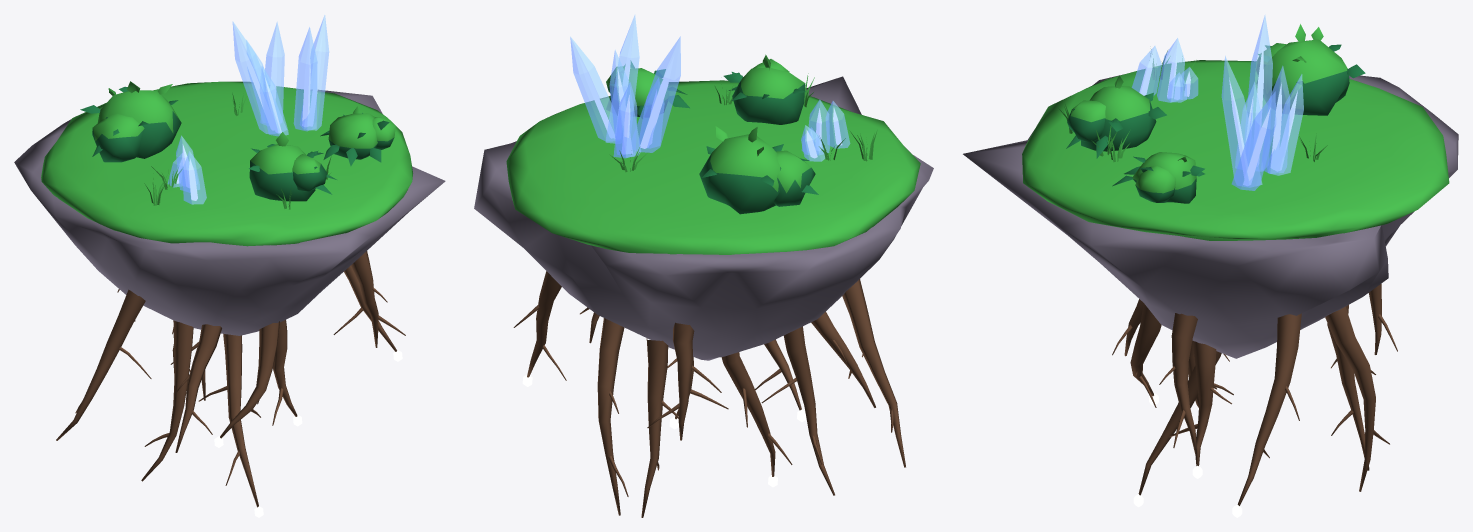
Rendered from floating_rock_a.glb.
3 renders of one model, left to right at view 1: azimuth 30°, elevation 25°; view 2: azimuth 150°, elevation 25°; view 3: azimuth 270°, elevation 25°, orthographic. The views are drawn at different scales.
Parts seen in each view (by area): view 1: floating_rock_a_mesh; view 2: floating_rock_a_mesh; view 3: floating_rock_a_mesh.
Part boxes in pixels (bbox=[...]): floating_rock_a_mesh: bbox=[14, 15, 445, 517]; floating_rock_a_mesh: bbox=[474, 15, 933, 517]; floating_rock_a_mesh: bbox=[963, 15, 1458, 517].
Bounding box in the file's own units: 6.17 × 7.53 × 6.64.
